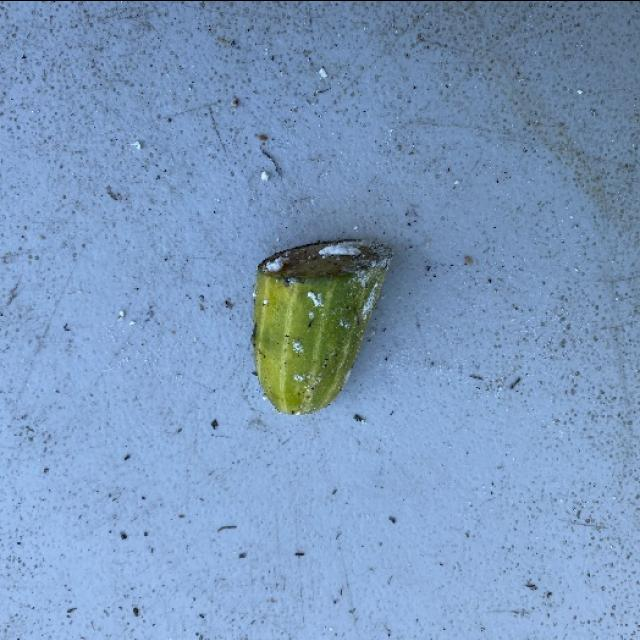organik: (238, 236, 376, 414)
